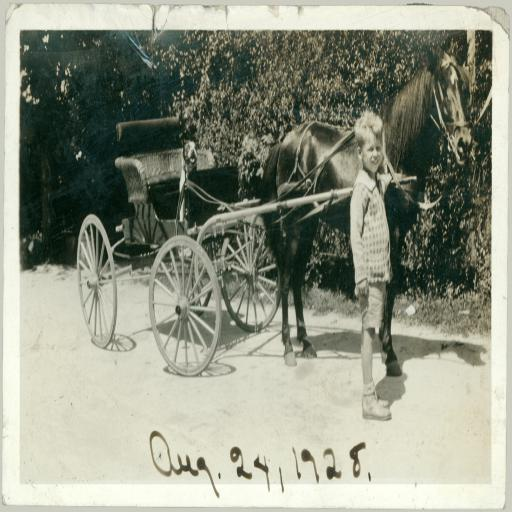horse: (258, 49, 474, 376)
